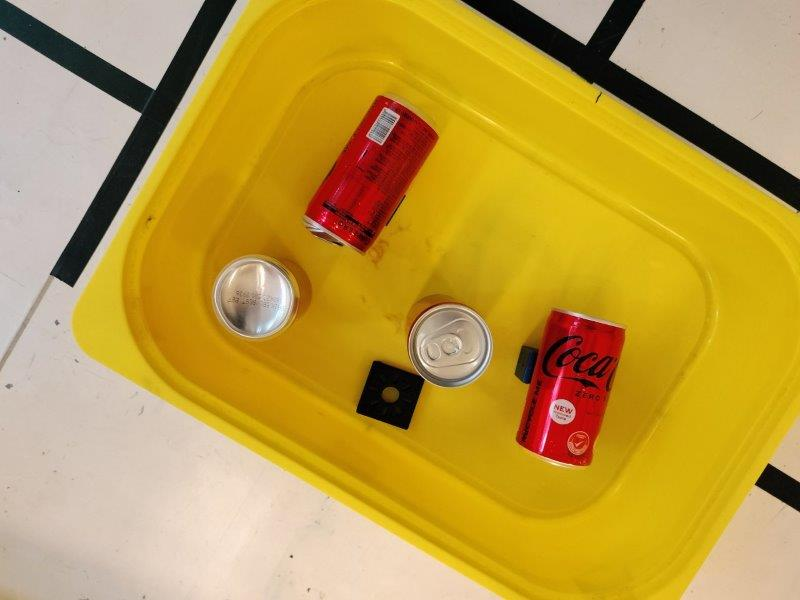Coke: (301, 95, 438, 256), (516, 309, 626, 469), (209, 254, 313, 341), (406, 295, 492, 387)
